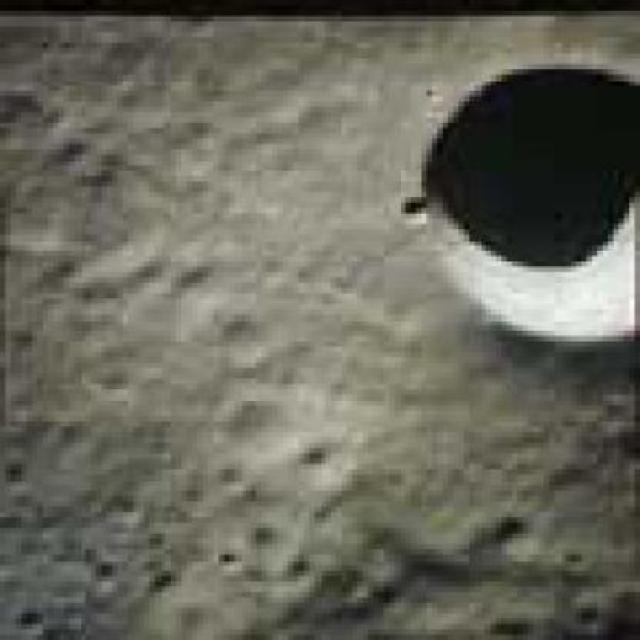crater: (420, 65, 638, 342)
